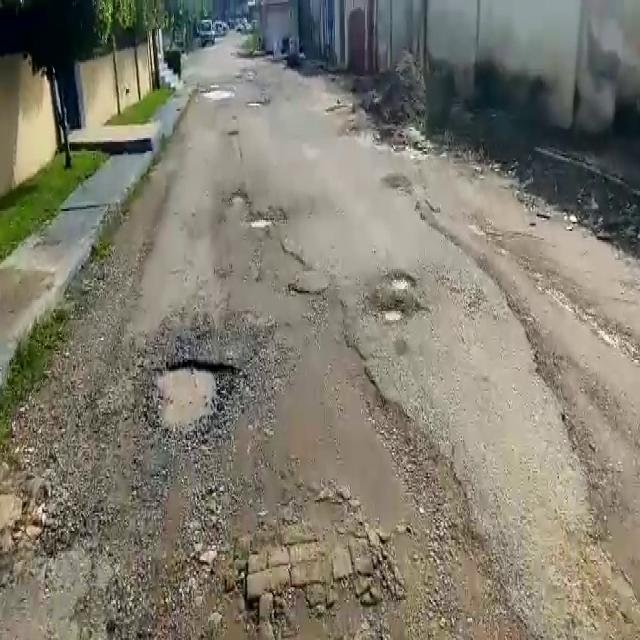Pothole: (151, 362, 242, 438), (382, 271, 418, 292), (380, 307, 405, 324), (251, 217, 275, 231), (229, 191, 247, 206)
